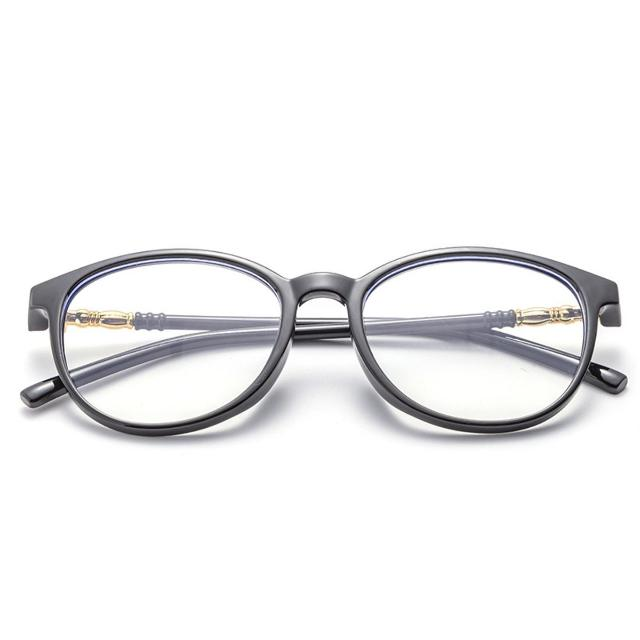glasses: (26, 242, 630, 440)
